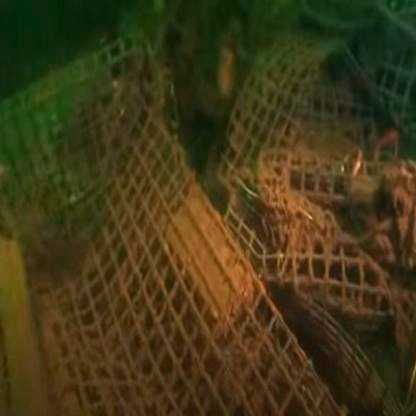net: (50, 57, 402, 416)
